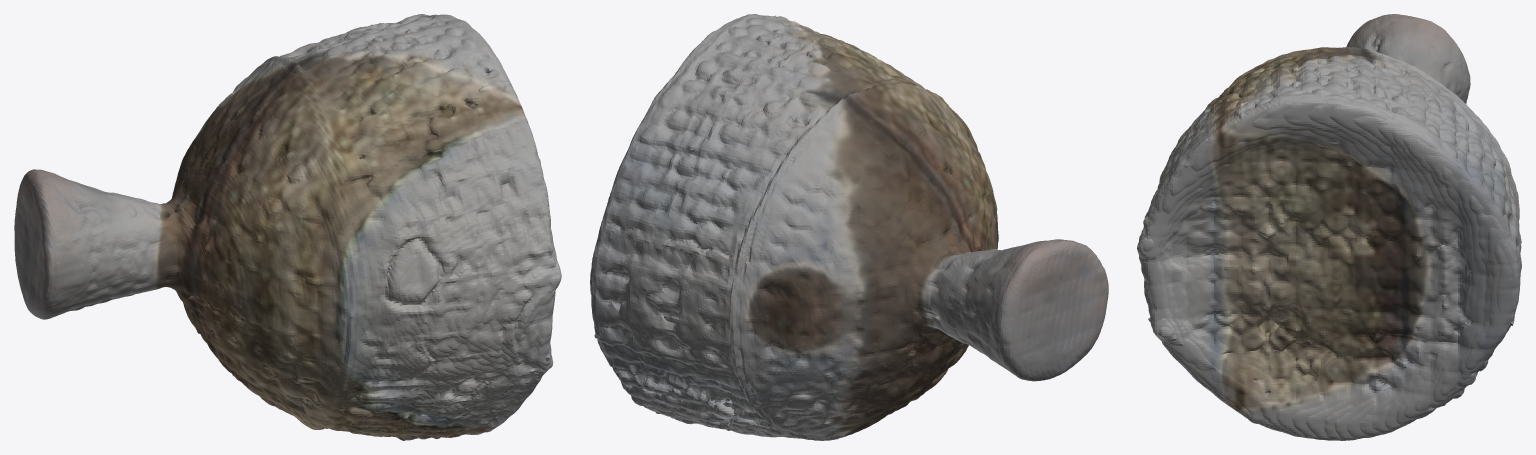
3 renders of one model, left to right at view 1: azimuth 30°, elevation 25°; view 2: azimuth 150°, elevation 25°; view 3: azimuth 270°, elevation 25°, orthographic. The views are drawn at different scales.
Parts seen in each view (by area): view 1: geometry_0; view 2: geometry_0; view 3: geometry_0.
Boxes of the visible parts, left/top/right/bottom form: geometry_0: left=14, top=14, right=561, bottom=440; geometry_0: left=590, top=14, right=1108, bottom=440; geometry_0: left=1137, top=14, right=1521, bottom=440.
Bounding box in the file's own units: 0.8957 × 0.7686 × 0.7675.
